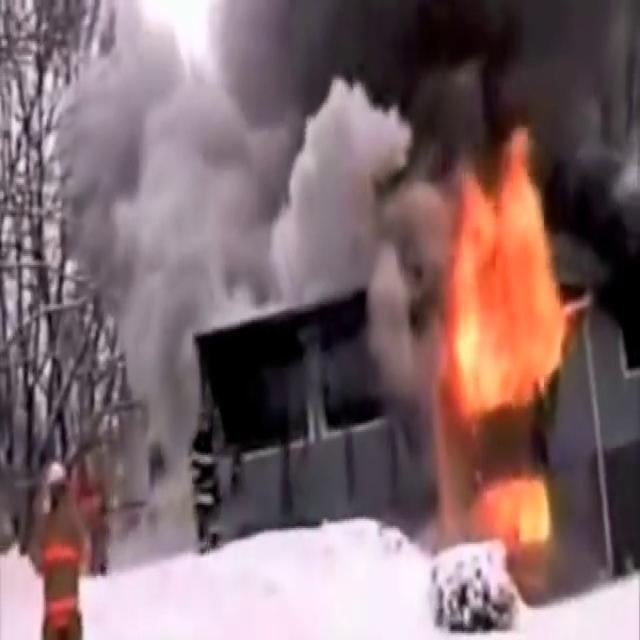Fire: (432, 118, 572, 424), (472, 467, 556, 559)
Smoke: (73, 0, 440, 421), (469, 0, 638, 214)
